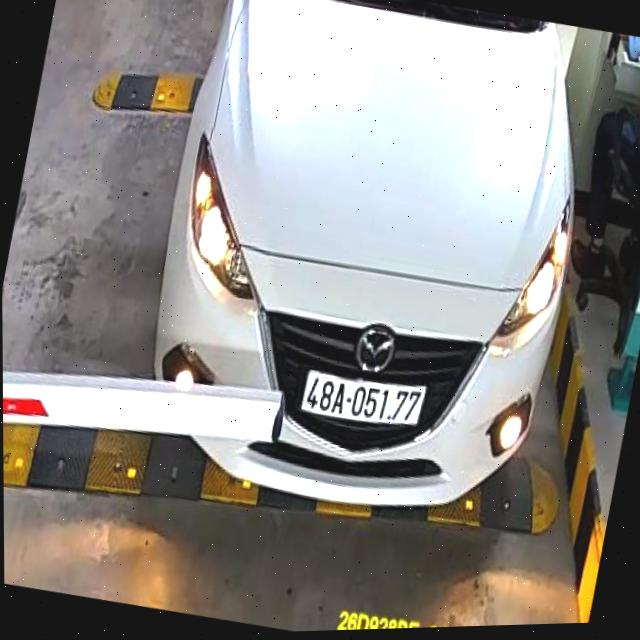car: (115, 0, 625, 554)
plate: (289, 355, 431, 442)
